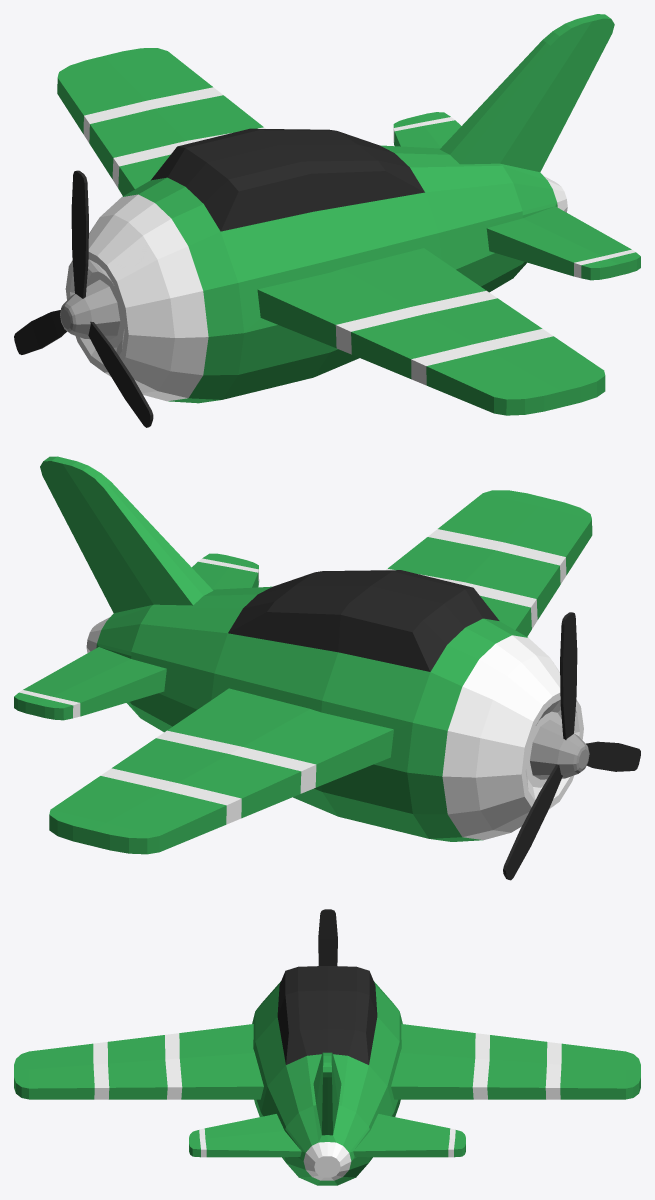
The picture shows the model from 3 angles, top to bottom: view 1: azimuth 30°, elevation 25°; view 2: azimuth 150°, elevation 25°; view 3: azimuth 270°, elevation 25°; orthographic projection. The views are drawn at different scales.
Parts seen in each view (by area): view 1: Plane_B26, Plane_B26 Fan; view 2: Plane_B26, Plane_B26 Fan; view 3: Plane_B26, Plane_B26 Fan.
Boxes of the visible parts, x1,y1,x2,y2 form: Plane_B26: (57, 14, 640, 415); Plane_B26 Fan: (14, 170, 153, 427); Plane_B26: (14, 456, 592, 854); Plane_B26 Fan: (503, 612, 640, 880); Plane_B26: (14, 966, 640, 1185); Plane_B26 Fan: (318, 909, 337, 965).
Size of the model in its own units: 3.87 by 1.87 by 5.64.
